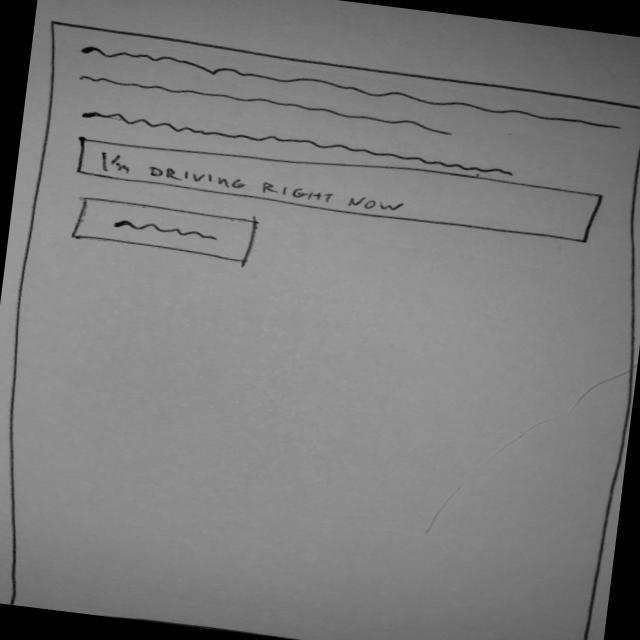button: (61, 126, 614, 252)
container: (1, 18, 640, 640)
input: (61, 194, 266, 273)
textbox: (71, 43, 632, 193)
